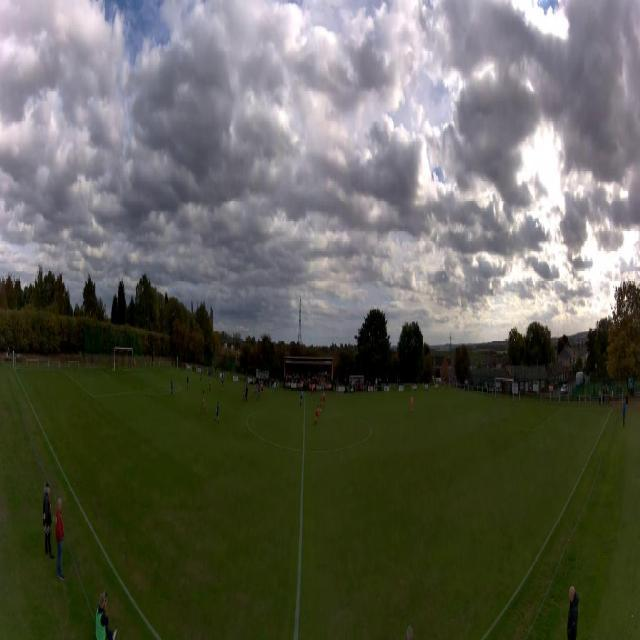ball: (271, 391, 272, 393)
player: (313, 405, 319, 427), (200, 390, 205, 416), (214, 402, 219, 424), (300, 388, 304, 408), (245, 386, 249, 404), (410, 395, 414, 412), (241, 387, 245, 404), (260, 381, 264, 397), (310, 384, 314, 400), (257, 384, 261, 400), (323, 390, 326, 408), (253, 385, 257, 397), (221, 375, 224, 390), (171, 377, 173, 397), (275, 380, 278, 392), (187, 373, 189, 390), (209, 375, 211, 392), (200, 367, 202, 383), (134, 357, 136, 371)
